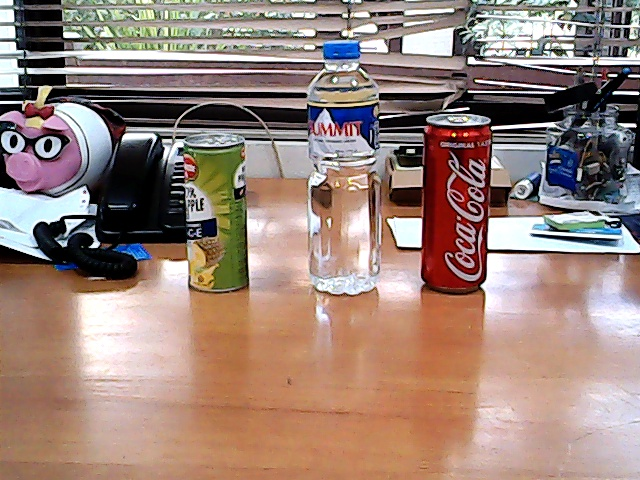Cola: (411, 101, 507, 309)
Pine Juice: (173, 123, 261, 305)
Summit Water: (298, 28, 395, 309)
